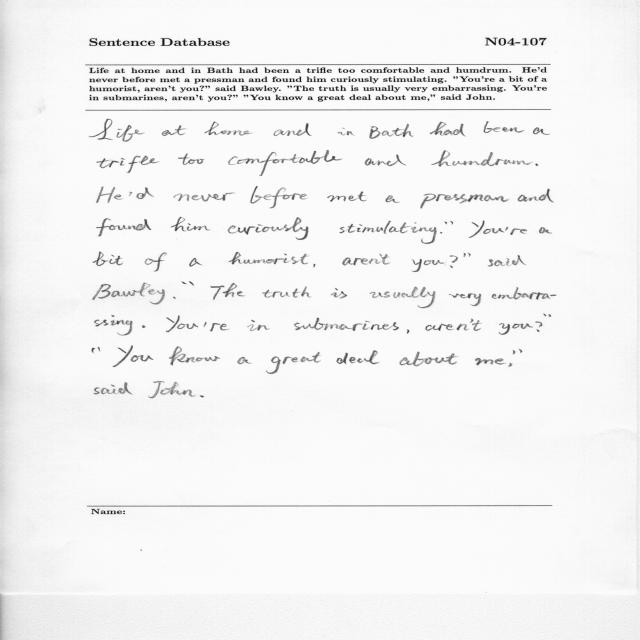word: (228, 151, 342, 177), (339, 221, 437, 244), (228, 217, 309, 240), (431, 150, 531, 167), (93, 283, 165, 305), (370, 287, 436, 309), (294, 318, 399, 331), (420, 194, 509, 209), (89, 119, 144, 142), (250, 186, 307, 208), (266, 352, 320, 374), (97, 156, 159, 173), (169, 346, 220, 366), (499, 314, 547, 335), (97, 219, 151, 237), (228, 252, 308, 264), (113, 346, 154, 367), (492, 287, 557, 300), (399, 352, 457, 366), (148, 381, 195, 398), (95, 315, 133, 335), (204, 121, 251, 136), (425, 319, 481, 331), (468, 220, 505, 238), (370, 124, 413, 139), (336, 351, 380, 365), (210, 283, 245, 300), (263, 286, 311, 298), (166, 315, 199, 332), (174, 193, 235, 202), (171, 217, 210, 231), (430, 122, 465, 137), (342, 254, 389, 265), (94, 382, 133, 395), (365, 155, 407, 167), (518, 189, 554, 203), (274, 123, 312, 136), (484, 121, 525, 133), (488, 255, 526, 267), (327, 191, 367, 202), (145, 252, 167, 272), (93, 252, 123, 266), (97, 187, 123, 203), (412, 259, 444, 272), (449, 293, 481, 306), (178, 153, 204, 165), (129, 187, 154, 199), (162, 125, 187, 136), (204, 322, 229, 332), (475, 358, 506, 366), (248, 320, 269, 331), (505, 227, 527, 235), (331, 288, 347, 299), (337, 128, 355, 136), (533, 127, 549, 135), (189, 258, 203, 267), (509, 350, 516, 367), (449, 255, 458, 268), (386, 195, 400, 203), (237, 357, 252, 364), (539, 227, 552, 234), (440, 222, 447, 234), (181, 282, 194, 286), (92, 347, 100, 353), (463, 253, 471, 258), (519, 349, 523, 353), (407, 329, 410, 334), (450, 221, 453, 225), (142, 325, 146, 328), (200, 395, 204, 398), (535, 163, 538, 166), (313, 264, 316, 267), (173, 297, 176, 299), (549, 314, 551, 317)
